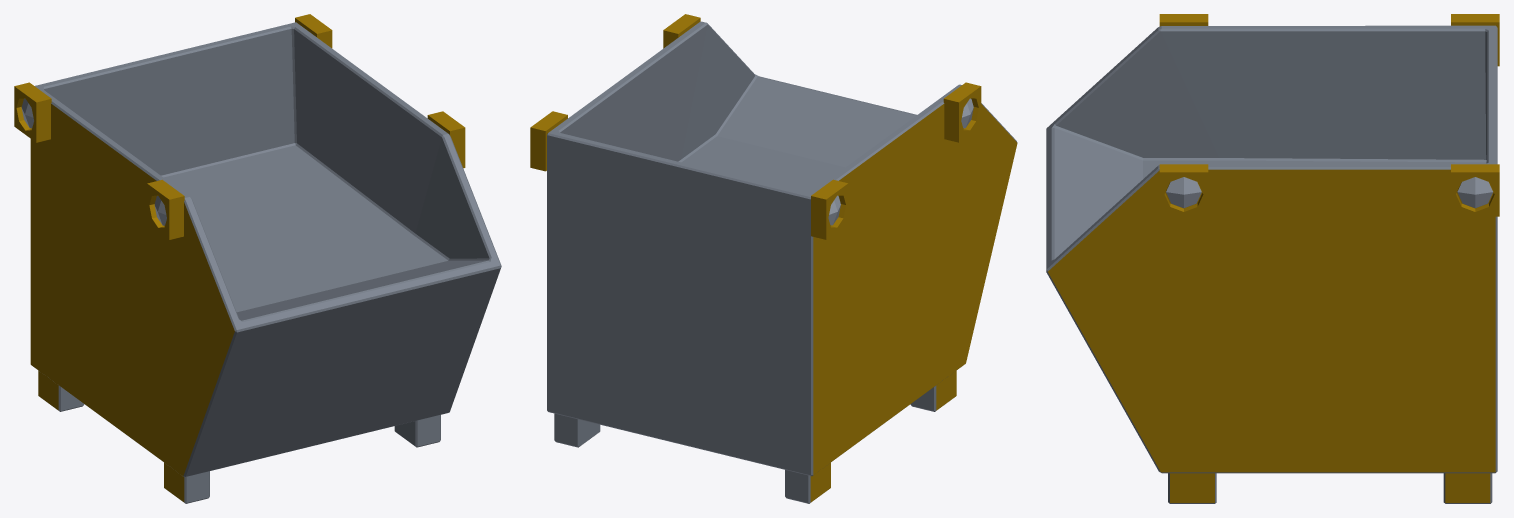
The picture shows the model from 3 angles, left to right: view 1: azimuth 30°, elevation 25°; view 2: azimuth 150°, elevation 25°; view 3: azimuth 270°, elevation 25°; orthographic projection. The views are drawn at different scales.
Parts seen in each view (by area): view 1: Cube.014; view 2: Cube.014; view 3: Cube.014.
Part boxes in pixels (<box>): Cube.014: <box>14,14,501,503</box>; Cube.014: <box>530,14,1017,503</box>; Cube.014: <box>1046,14,1499,503</box>.
Bounding box in the file's own units: 2.18 × 2.19 × 2.63.
